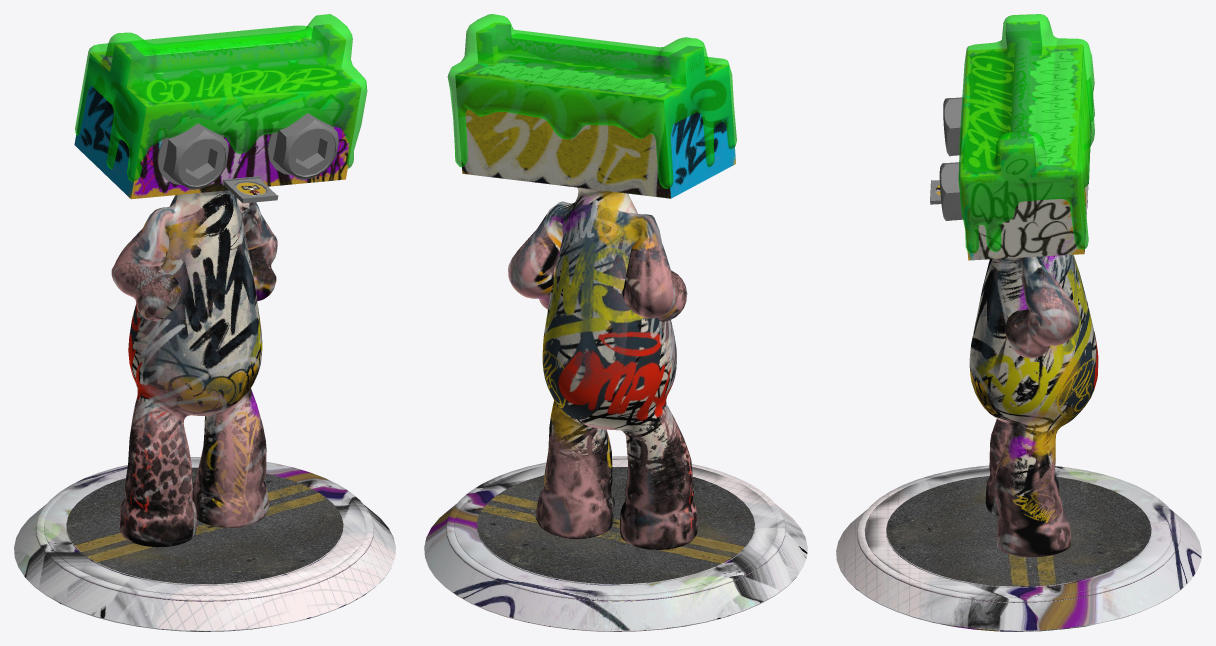
3 renders of one model, left to right at view 1: azimuth 30°, elevation 25°; view 2: azimuth 150°, elevation 25°; view 3: azimuth 270°, elevation 25°, orthographic. The views are drawn at different scales.
Visible parts, largest first — view 1: BBody; view 2: BBody; view 3: BBody.
Part boxes in pixels (left/top/right/bottom): BBody: left=14, top=14, right=395, bottom=631; BBody: left=424, top=14, right=807, bottom=631; BBody: left=836, top=14, right=1201, bottom=631.
Bounding box in the file's own units: 1.45 × 2.21 × 1.45.
9 materials, 5 textured.
